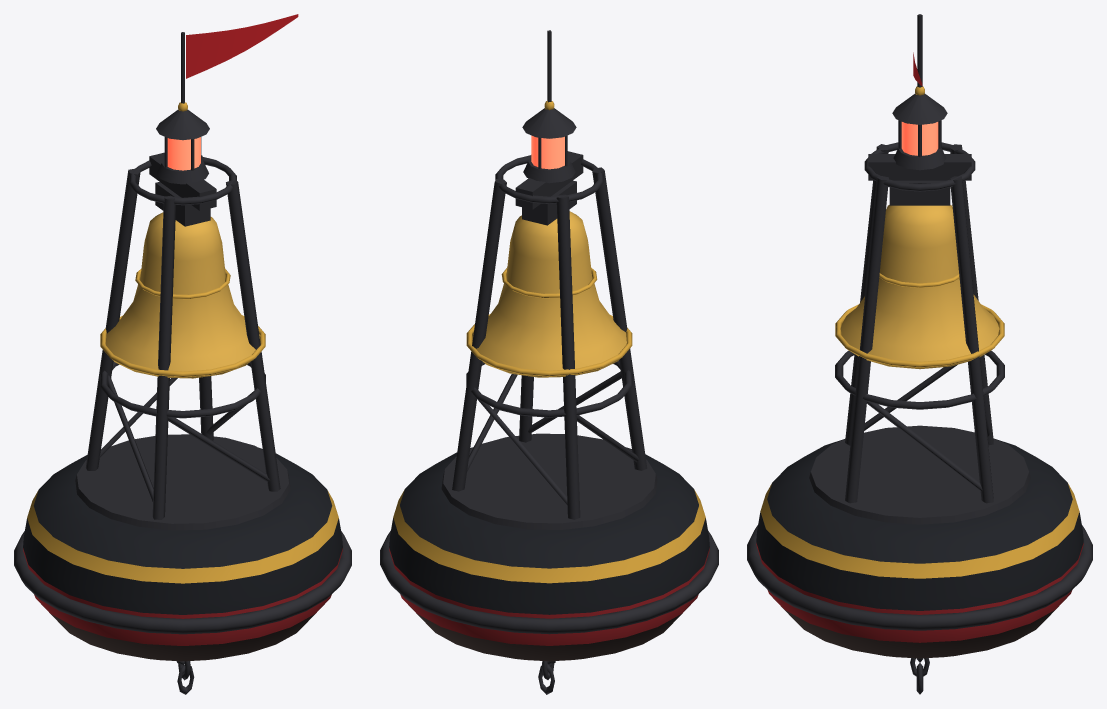
File: challenge-bell.glb
3 views of the same model, side by side, from view 1: azimuth 30°, elevation 25°; view 2: azimuth 150°, elevation 25°; view 3: azimuth 270°, elevation 25° (orthographic). The views are drawn at different scales.
Parts seen in each view (by area): view 1: Mesh_FloatTop, Mesh_DeckPlate, Mesh_BellBody, Mesh_FloatSide, Mesh_Fender, Mesh_FloatBand, Mesh_FloatBootTop, Mesh_TowerLeg1, Mesh_TowerLeg0, Mesh_FloatBottom, Mesh_TowerLeg2, Mesh_Pennant (+12 smaller); view 2: Mesh_FloatTop, Mesh_DeckPlate, Mesh_BellBody, Mesh_FloatSide, Mesh_Fender, Mesh_FloatBand, Mesh_FloatBootTop, Mesh_TowerLeg2, Mesh_TowerLeg3, Mesh_FloatBottom, Mesh_TowerLeg1, Mesh_TowerRingLow (+12 smaller); view 3: Mesh_FloatTop, Mesh_DeckPlate, Mesh_BellBody, Mesh_FloatSide, Mesh_Fender, Mesh_FloatBand, Mesh_FloatBootTop, Mesh_TowerLeg0, Mesh_TowerLeg3, Mesh_FloatBottom, Mesh_Headstock, Mesh_TowerRingLow (+10 smaller).
Boxes of the visible parts, x1,y1,x2,y2 form: Mesh_FloatTop: [33, 447, 332, 568]; Mesh_DeckPlate: [75, 434, 290, 530]; Mesh_BellBody: [105, 212, 260, 378]; Mesh_FloatSide: [23, 518, 342, 614]; Mesh_Fender: [14, 531, 351, 634]; Mesh_FloatBand: [27, 490, 338, 583]; Mesh_FloatBootTop: [23, 548, 342, 645]; Mesh_TowerLeg1: [152, 195, 175, 519]; Mesh_TowerLeg0: [226, 180, 280, 491]; Mesh_FloatBottom: [41, 604, 324, 661]; Mesh_TowerLeg2: [86, 168, 140, 470]; Mesh_Pennant: [186, 14, 298, 78]; Mesh_FloatTop: [400, 447, 698, 568]; Mesh_DeckPlate: [441, 433, 657, 529]; Mesh_BellBody: [472, 211, 626, 377]; Mesh_FloatSide: [389, 518, 709, 614]; Mesh_Fender: [380, 530, 718, 634]; Mesh_FloatBand: [393, 489, 705, 583]; Mesh_FloatBootTop: [389, 547, 709, 645]; Mesh_TowerLeg2: [556, 194, 580, 519]; Mesh_TowerLeg3: [452, 179, 506, 491]; Mesh_FloatBottom: [408, 605, 690, 661]; Mesh_TowerLeg1: [592, 167, 647, 470]; Mesh_TowerRingLow: [466, 360, 632, 417]; Mesh_FloatTop: [767, 438, 1072, 563]; Mesh_DeckPlate: [809, 425, 1030, 524]; Mesh_BellBody: [840, 205, 999, 369]; Mesh_FloatSide: [756, 512, 1083, 610]; Mesh_Fender: [747, 525, 1092, 630]; Mesh_FloatBand: [760, 483, 1079, 578]; Mesh_FloatBootTop: [756, 543, 1083, 642]; Mesh_TowerLeg0: [845, 176, 888, 503]; Mesh_TowerLeg3: [950, 176, 993, 503]; Mesh_FloatBottom: [773, 598, 1066, 658]; Mesh_Headstock: [868, 154, 971, 180]; Mesh_TowerRingLow: [835, 350, 1004, 409].
Size of the model in its own units: 4.14 by 8.91 by 4.12.
